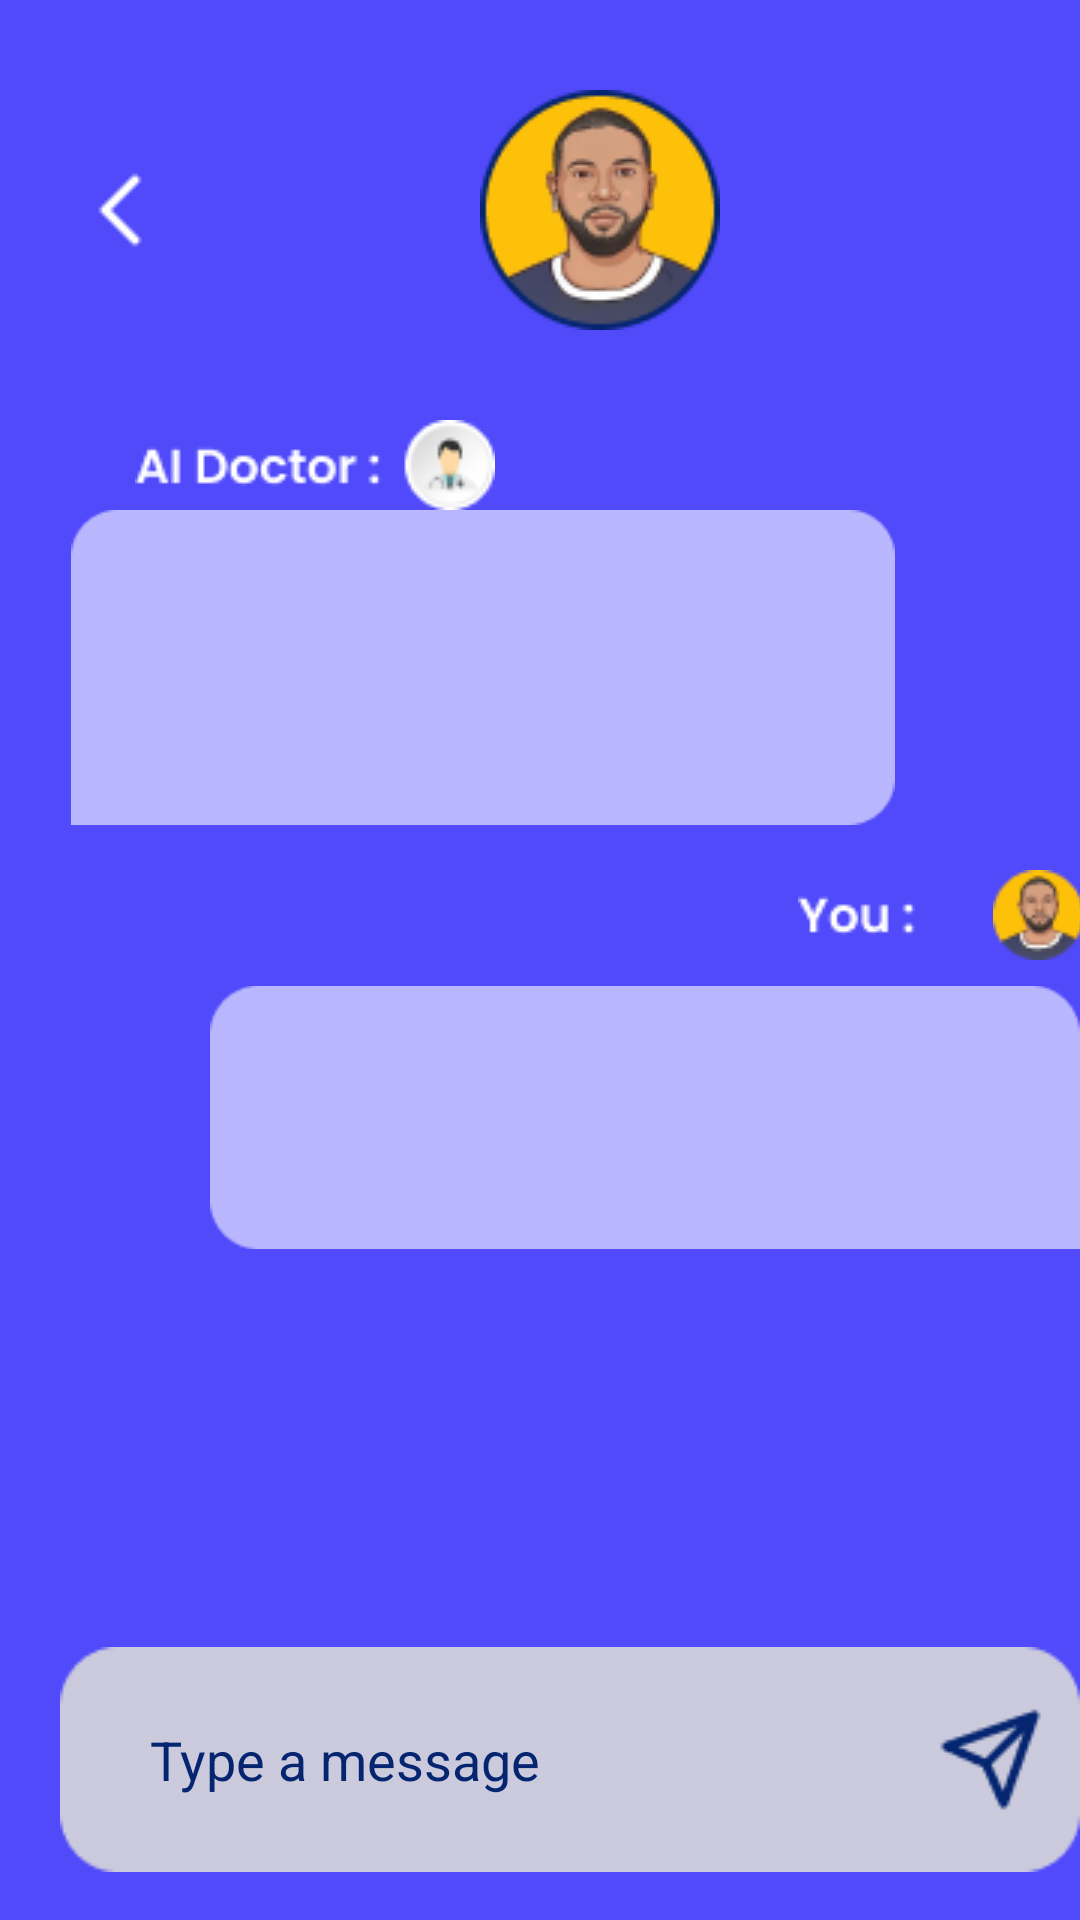

Screen size 1080 x 1920. Icon name, then its box in pixels as box(x1, y1, x2, y2):
chevronleft: box(99, 174, 141, 246)
send: box(940, 1709, 1041, 1810)
